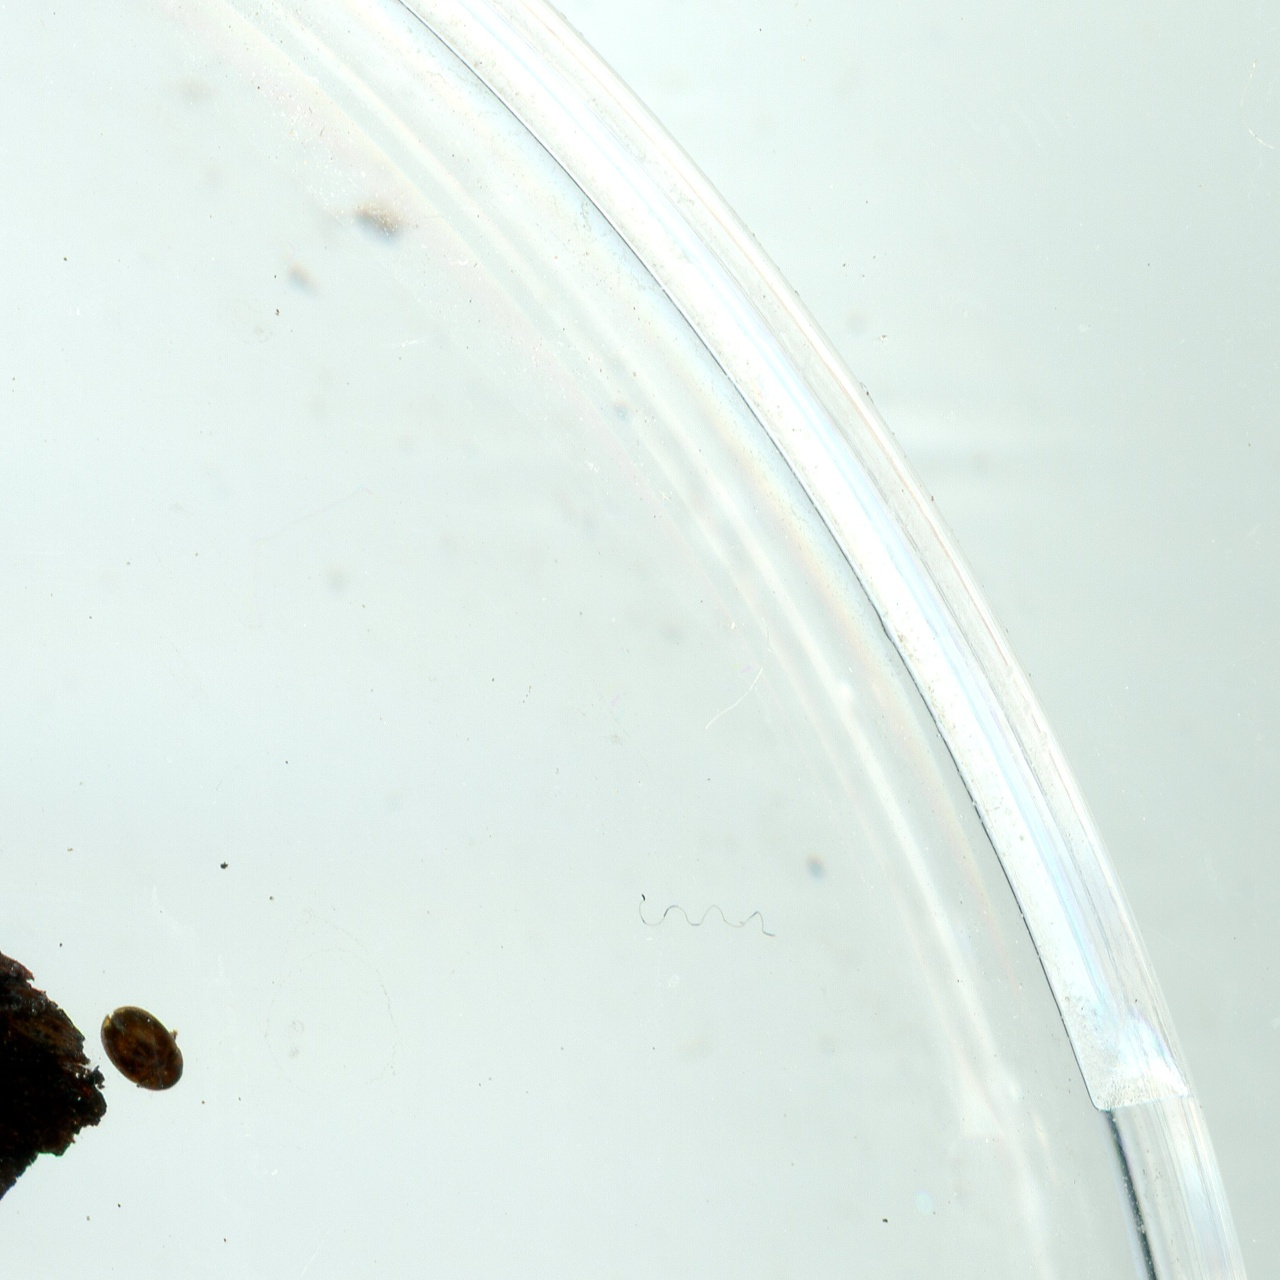arthropod: (96, 1004, 189, 1093)
